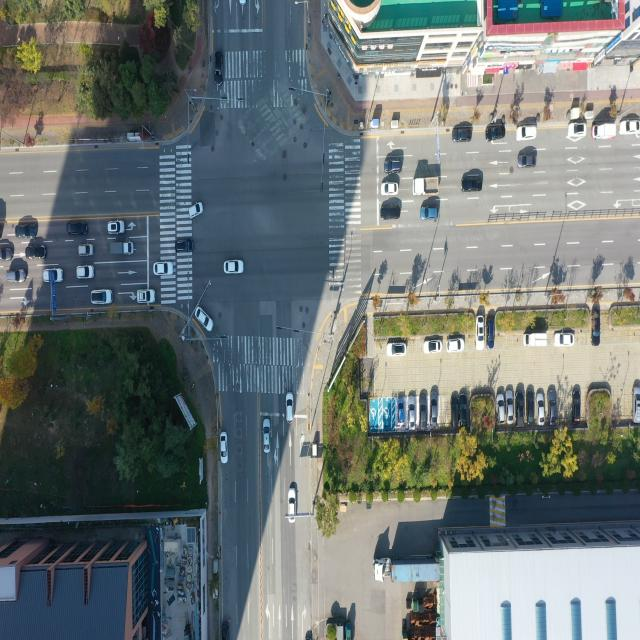car: (196, 307, 216, 333), (591, 308, 601, 346), (516, 387, 526, 425), (92, 289, 114, 305), (155, 262, 177, 278), (226, 260, 246, 277), (619, 118, 640, 134), (554, 333, 575, 349), (17, 223, 39, 238), (288, 484, 297, 520), (477, 314, 486, 350), (429, 390, 438, 425), (43, 269, 62, 285), (517, 126, 536, 142), (387, 343, 407, 358), (550, 389, 558, 426), (461, 177, 482, 191), (423, 340, 442, 355), (486, 127, 505, 142), (68, 221, 88, 235), (27, 246, 47, 260), (264, 417, 272, 452), (527, 389, 535, 424), (421, 206, 438, 222), (572, 388, 580, 422), (175, 239, 193, 254), (137, 289, 156, 303), (6, 271, 25, 285), (381, 207, 400, 221), (285, 396, 294, 425), (487, 317, 495, 349), (420, 394, 428, 426), (220, 432, 228, 464), (448, 339, 465, 354), (188, 202, 203, 219), (518, 156, 536, 170), (496, 392, 504, 423), (536, 392, 544, 423), (409, 396, 417, 427), (451, 394, 459, 425), (216, 53, 223, 88), (108, 220, 124, 235), (76, 267, 93, 281), (568, 124, 585, 138), (505, 389, 512, 422), (634, 385, 640, 422), (382, 181, 399, 194), (454, 132, 472, 144), (396, 398, 405, 422), (384, 164, 402, 175), (220, 620, 229, 640), (0, 248, 13, 261), (79, 244, 93, 256), (382, 199, 400, 207)
large_truck: (373, 557, 441, 585)
small_truck: (411, 177, 439, 196), (524, 333, 548, 351), (592, 125, 615, 141), (110, 241, 134, 256)
